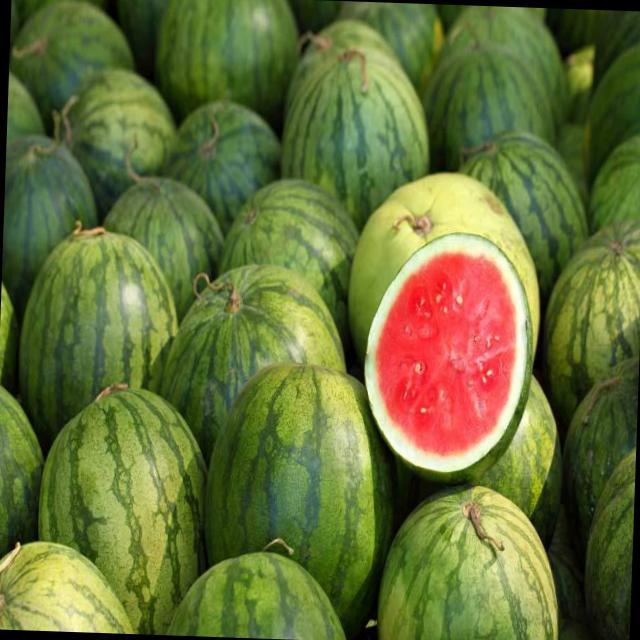WATERMELON: (351, 168, 538, 470), (228, 374, 396, 598), (41, 386, 206, 608), (19, 214, 180, 416), (185, 230, 352, 404), (294, 21, 448, 200), (428, 13, 554, 148), (544, 227, 640, 404), (0, 527, 147, 634), (172, 550, 354, 636), (555, 354, 639, 526), (160, 0, 301, 95), (2, 122, 90, 248), (10, 0, 127, 92), (587, 442, 636, 640), (0, 362, 40, 553), (593, 112, 640, 224)
